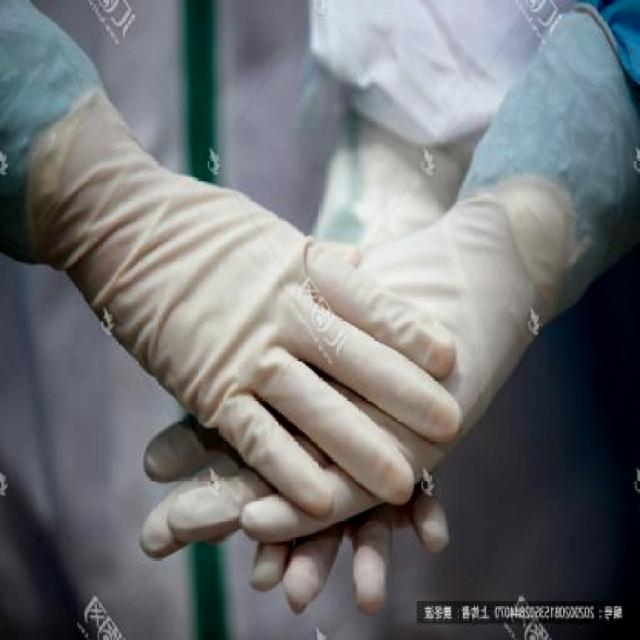hand_glove: (139, 245, 486, 606), (82, 190, 464, 505)
